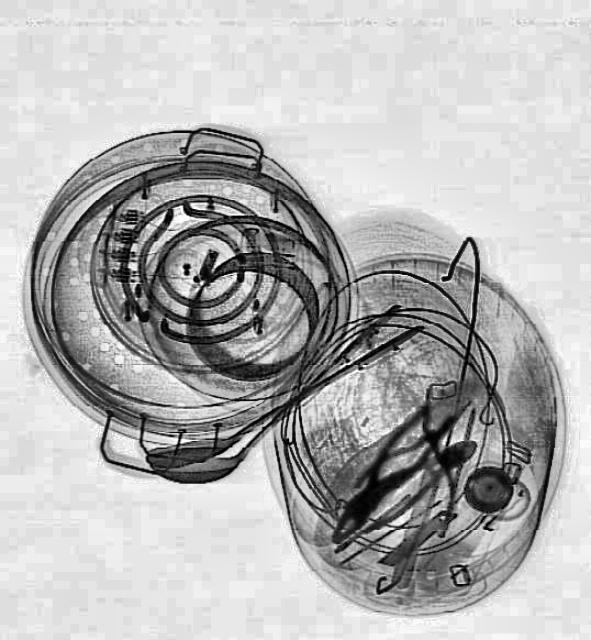Pliers: (314, 396, 456, 554), (337, 424, 491, 540)
